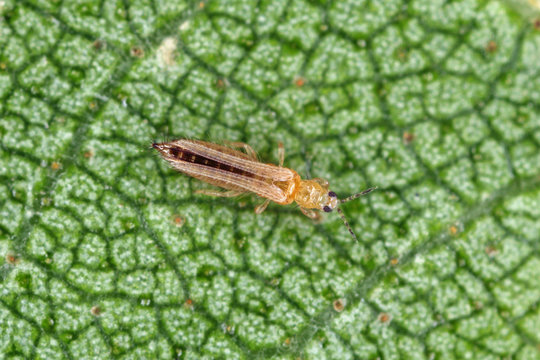Thrips: (139, 125, 378, 237)
